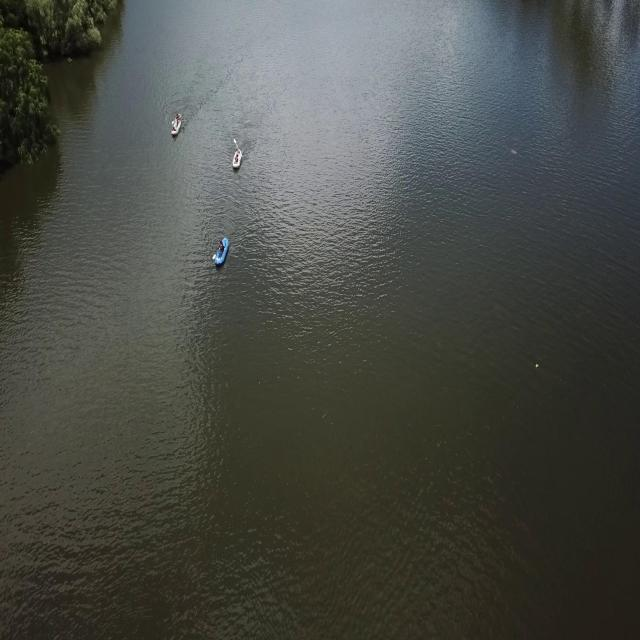kayak: (215, 234, 231, 268), (170, 110, 184, 142), (231, 145, 244, 175)
